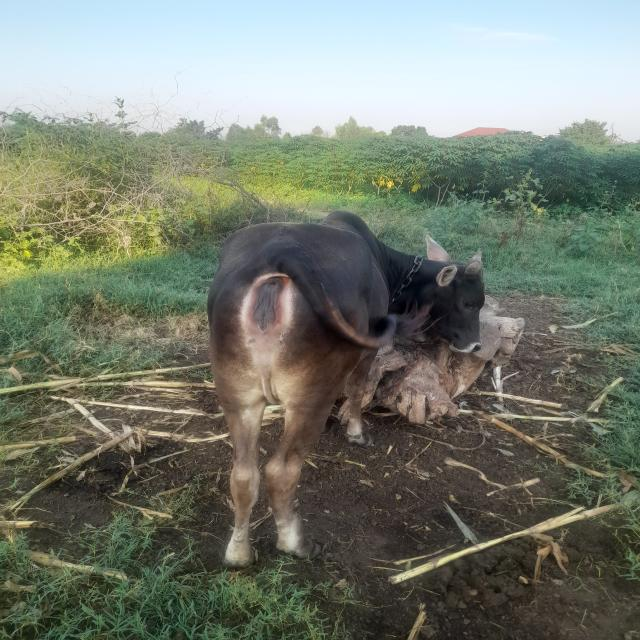Rear: (171, 205, 506, 578), (208, 211, 485, 568)
